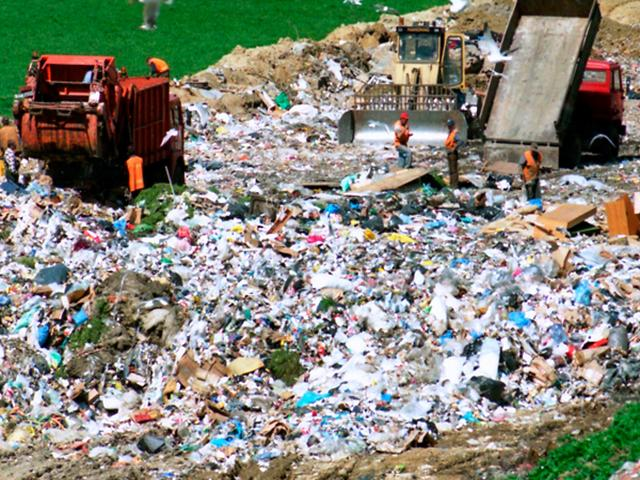garbage: (12, 202, 609, 398)
